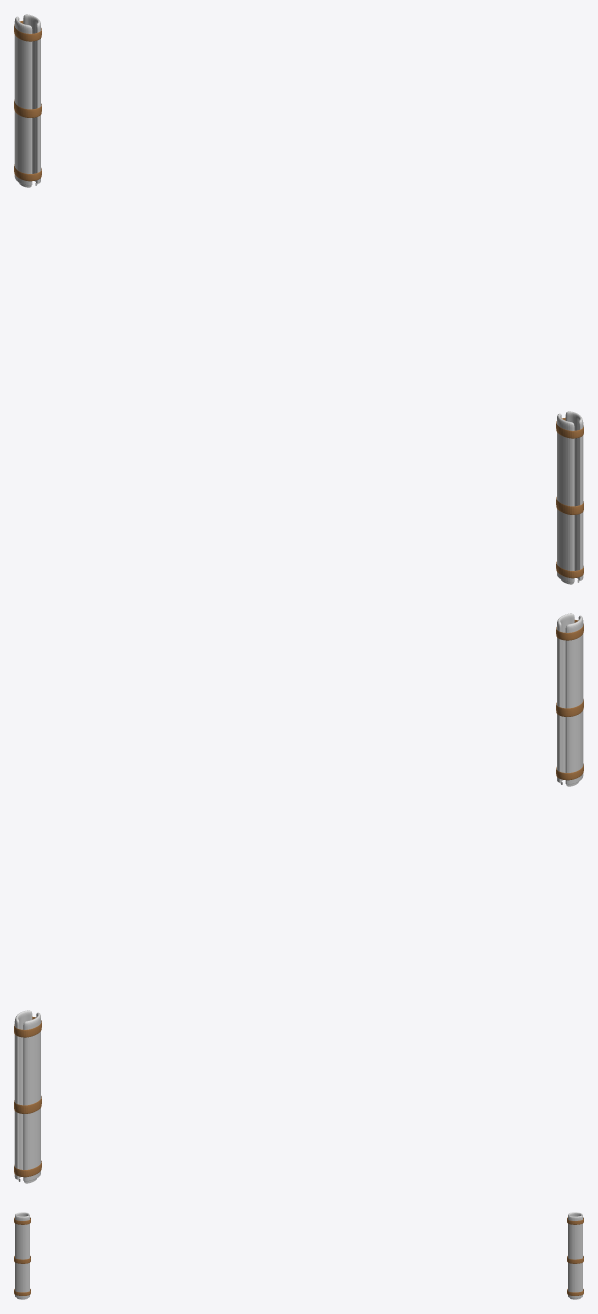
Rendered from net_SafetyPillars.fbx.
3 renders of one model, top to bottom at view 1: azimuth 30°, elevation 25°; view 2: azimuth 150°, elevation 25°; view 3: azimuth 270°, elevation 25°, orthographic. The views are drawn at different scales.
Visible parts, largest first — view 1: pillars_safety_obj; view 2: pillars_safety_obj; view 3: pillars_safety_obj.
Boxes of the visible parts, x1,y1,x2,y2 form: pillars_safety_obj: [14, 14, 583, 584]; pillars_safety_obj: [14, 613, 583, 1183]; pillars_safety_obj: [14, 1212, 583, 1299].
Bounding box in the file's own units: 24.53 × 176 × 1095.
